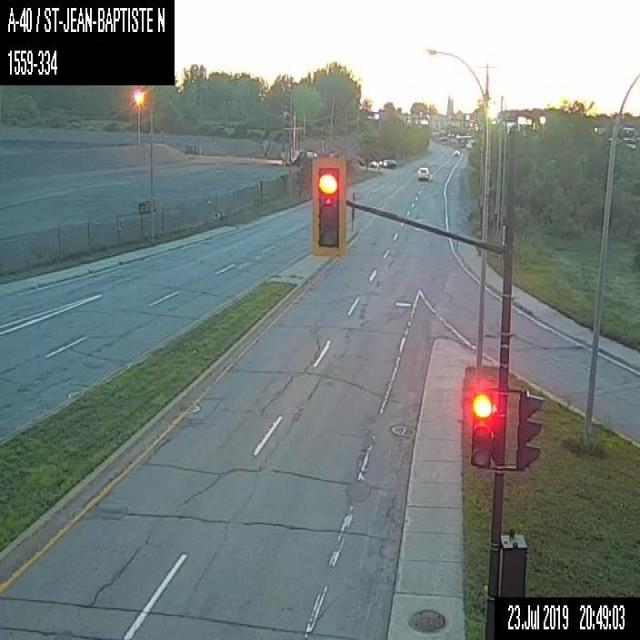vehicle: (379, 158, 397, 168), (417, 165, 429, 179), (452, 149, 459, 157)
